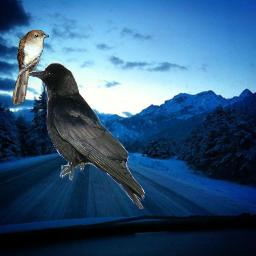Crow: (26, 62, 145, 209)
Cuckoo: (12, 29, 49, 105)
